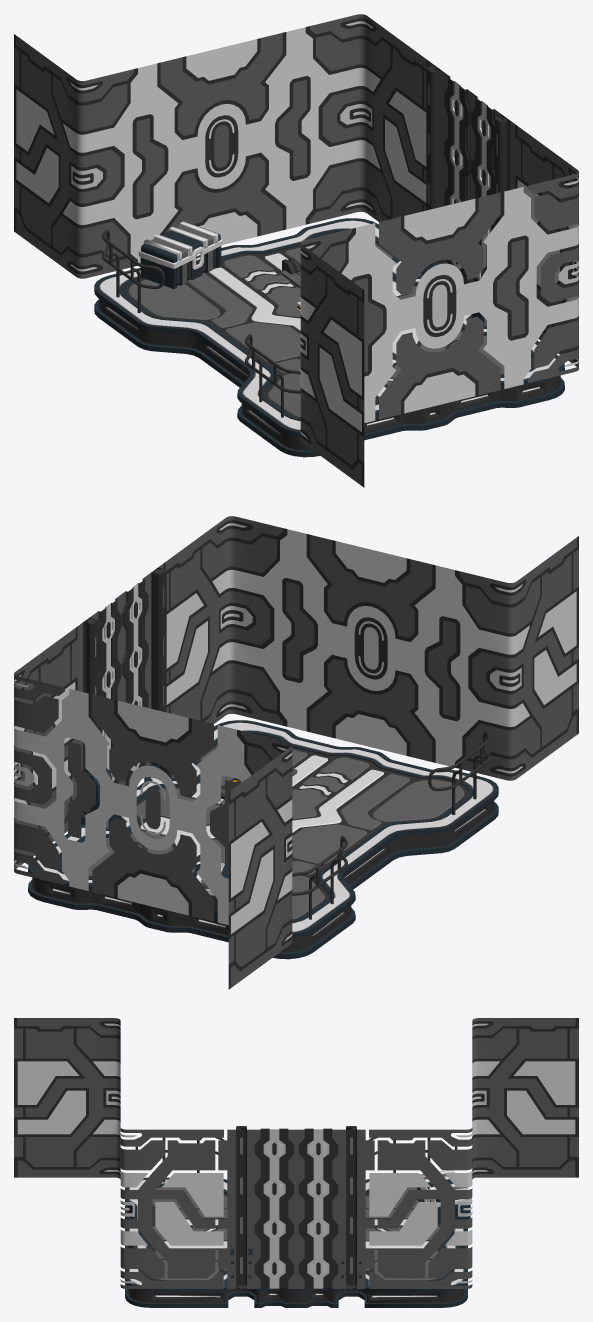
File: Elevator.fbx
The picture shows the model from 3 angles, top to bottom: view 1: azimuth 30°, elevation 25°; view 2: azimuth 150°, elevation 25°; view 3: azimuth 270°, elevation 25°; orthographic projection. The views are drawn at different scales.
Visible parts, largest first — view 1: Walls, Elevator, Box; view 2: Walls, Elevator; view 3: Walls, Elevator, Box.
Boxes of the visible parts, x1=… form: Walls: x1=14, y1=14, x2=578, y2=487; Elevator: x1=94, y1=218, x2=564, y2=457; Box: x1=138, y1=221, x2=222, y2=288; Walls: x1=14, y1=516, x2=578, y2=989; Elevator: x1=28, y1=720, x2=498, y2=959; Walls: x1=14, y1=1018, x2=578, y2=1288; Elevator: x1=125, y1=1137, x2=467, y2=1307; Box: x1=417, y1=1170, x2=471, y2=1223.
Size of the model in its own units: 603 by 450 by 1285.
